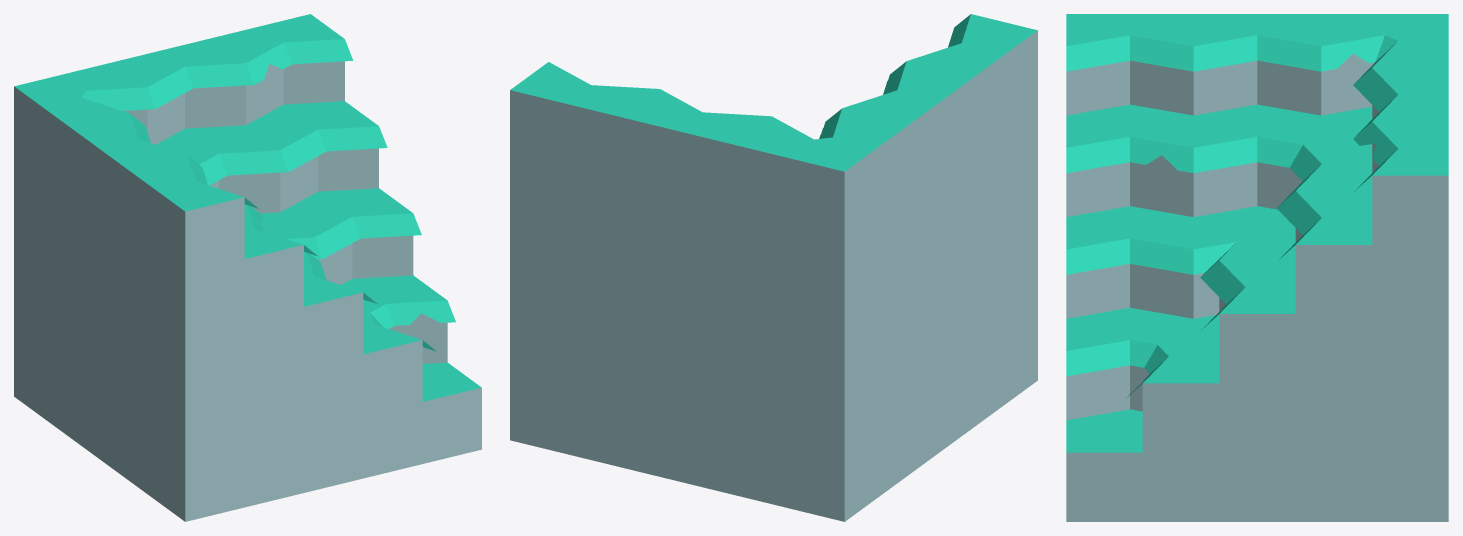
Rendered from cliff_stepsCornerInner_stone.dae.
3 renders of one model, left to right at view 1: azimuth 30°, elevation 25°; view 2: azimuth 150°, elevation 25°; view 3: azimuth 270°, elevation 25°, orthographic. The views are drawn at different scales.
Parts seen in each view (by area): view 1: cliff_stepsCornerInner_stone; view 2: cliff_stepsCornerInner_stone; view 3: cliff_stepsCornerInner_stone.
Part boxes in pixels (<box>): cliff_stepsCornerInner_stone: <box>14,14,481,521</box>; cliff_stepsCornerInner_stone: <box>510,14,1037,521</box>; cliff_stepsCornerInner_stone: <box>1066,14,1448,521</box>.
Bounding box in the file's own units: 1 × 1 × 1.
